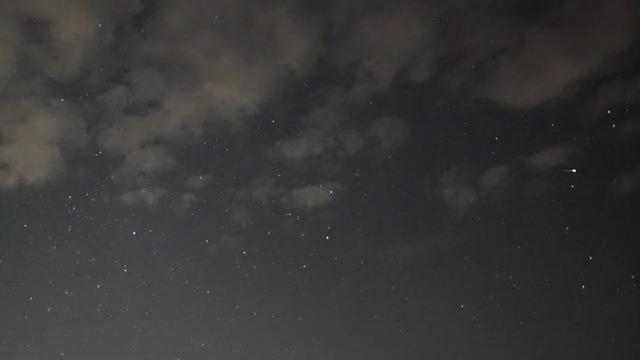meteorite: (557, 167, 584, 177)
